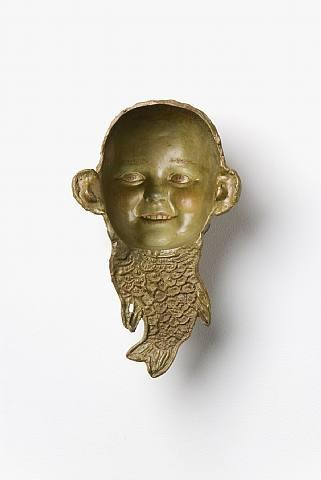person: (71, 101, 243, 255)
